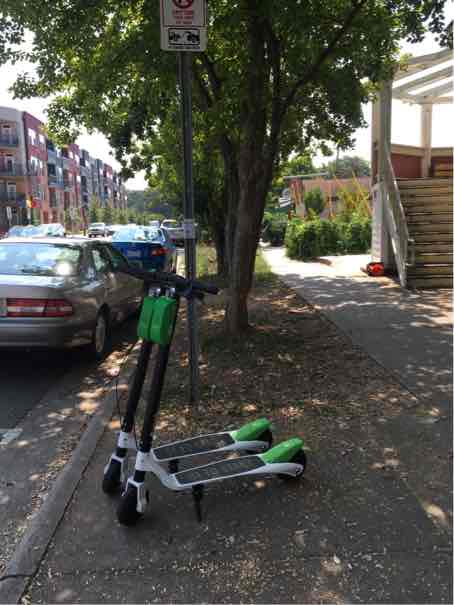scooter: (114, 265, 311, 525), (88, 257, 282, 495)
